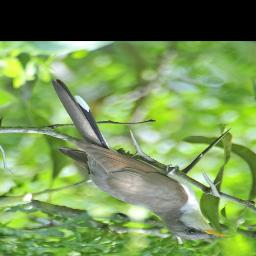Cuckoo: (50, 79, 231, 240)
